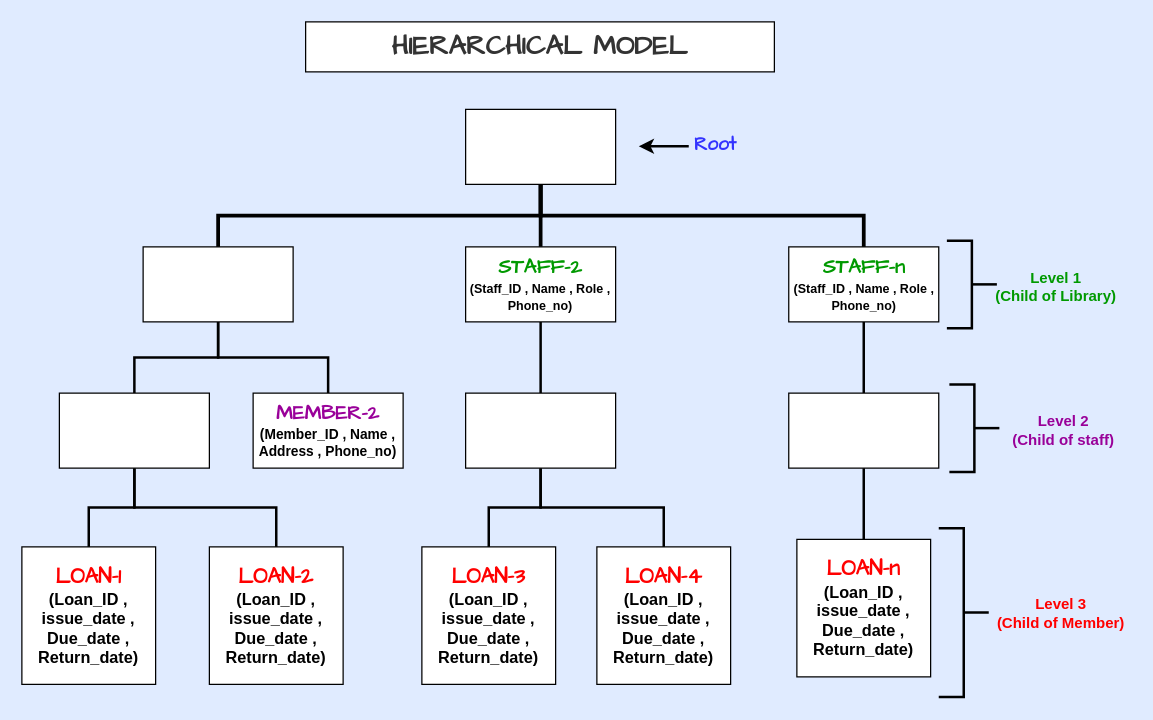
The diagram is 1153 pixels wide and 720 high, and some of its shapes have lost their labels. The box of each missing label's shape, as (x1, y1, x2, y2) in pixels:
LIBRARY (Library_ID , Name , address): (464, 108, 616, 184)
MEMBER-1 (Member_ID , Name , Address , Phone_no): (58, 392, 209, 468)
MEMBER-3 (Member_ID , Name , Address , Phone_no): (464, 392, 616, 468)
MEMBER-n (Member_ID , Name , Address , Phone_no): (788, 392, 939, 468)
STAFF-1 (Staff_ID , Name , Role , Phone_no): (142, 246, 293, 322)
